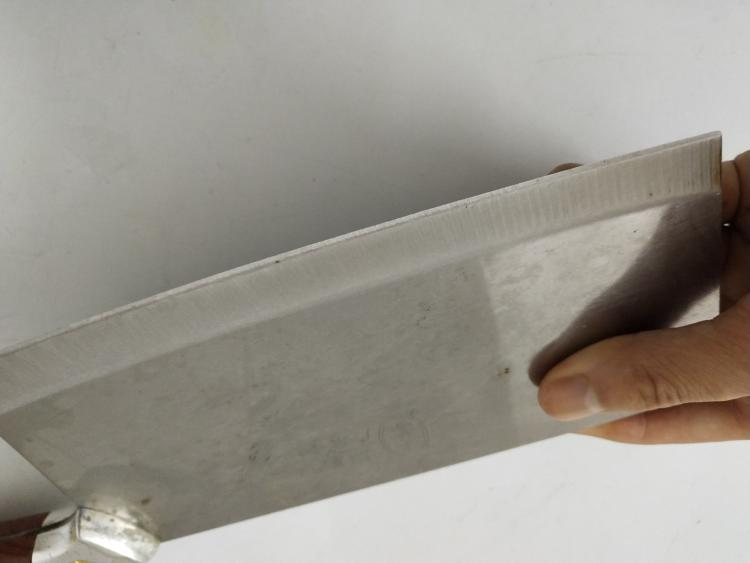knief: (90, 95, 729, 544)
